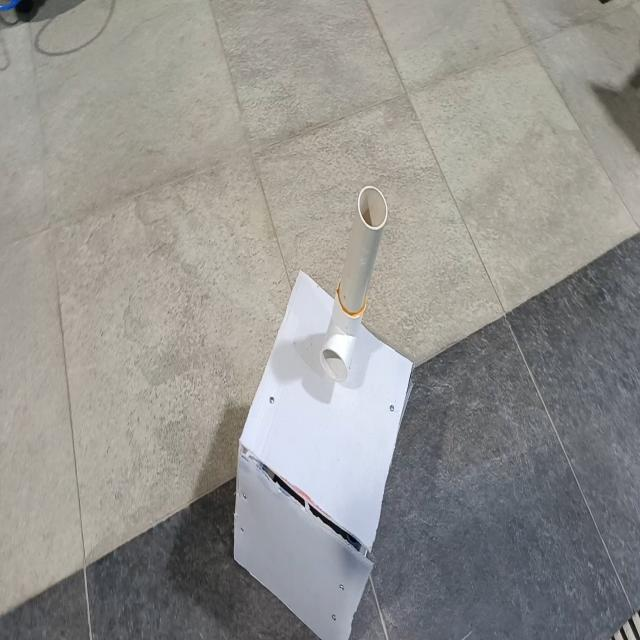Cube: (232, 266, 415, 638)
